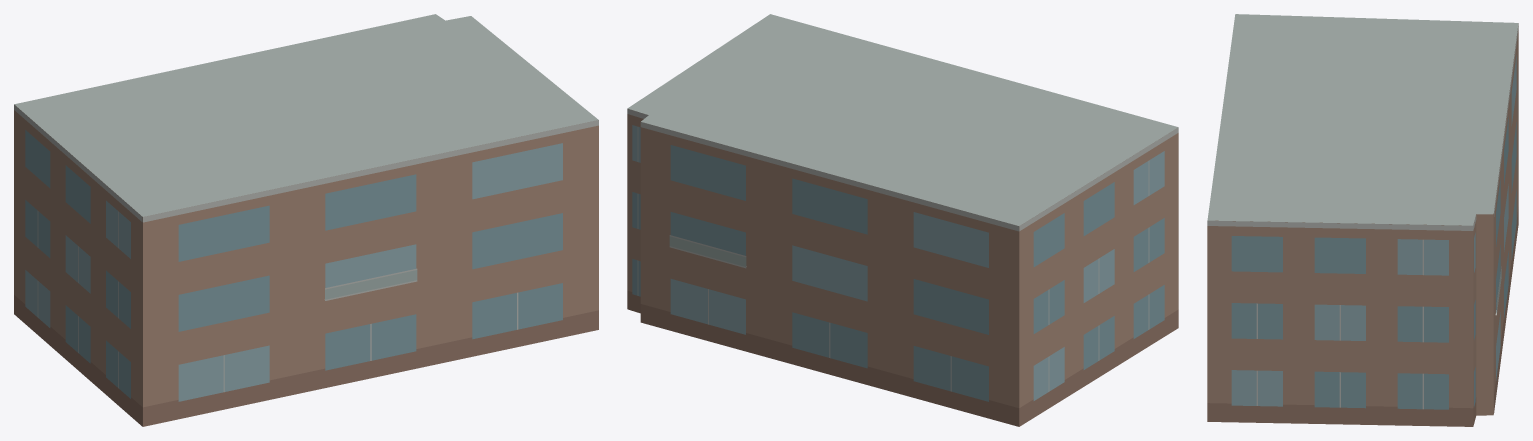
File: survey-upis-33002008.glb
3 views of the same model, side by side, from view 1: azimuth 30°, elevation 25°; view 2: azimuth 150°, elevation 25°; view 3: azimuth 270°, elevation 25° (orthographic). The views are drawn at different scales.
Parts seen in each view (by area): view 1: survey-upis-33002008.tmp; view 2: survey-upis-33002008.tmp; view 3: survey-upis-33002008.tmp.
Boxes of the visible parts, box(x1,y1,x2,y2) form: survey-upis-33002008.tmp: box(14, 14, 598, 426); survey-upis-33002008.tmp: box(627, 14, 1178, 426); survey-upis-33002008.tmp: box(1207, 14, 1518, 426).
Bounding box in the file's own units: 20.65 × 9.15 × 12.83.
